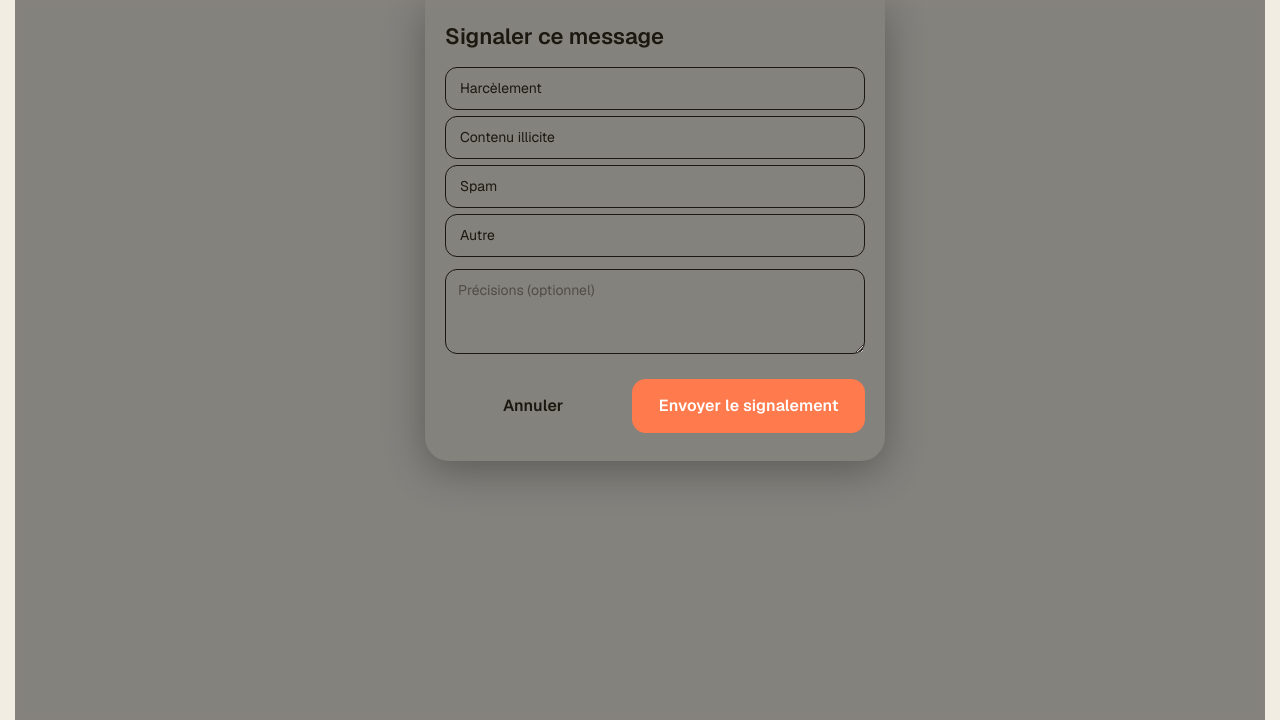
échec réseau → message d erreur, reste sur le formulaire
What coordinates should you click on to do the following:
click the button "Envoyer le signalement"
I would click on:
 (749, 406)
Its box is left=632, top=379, right=865, bottom=433.
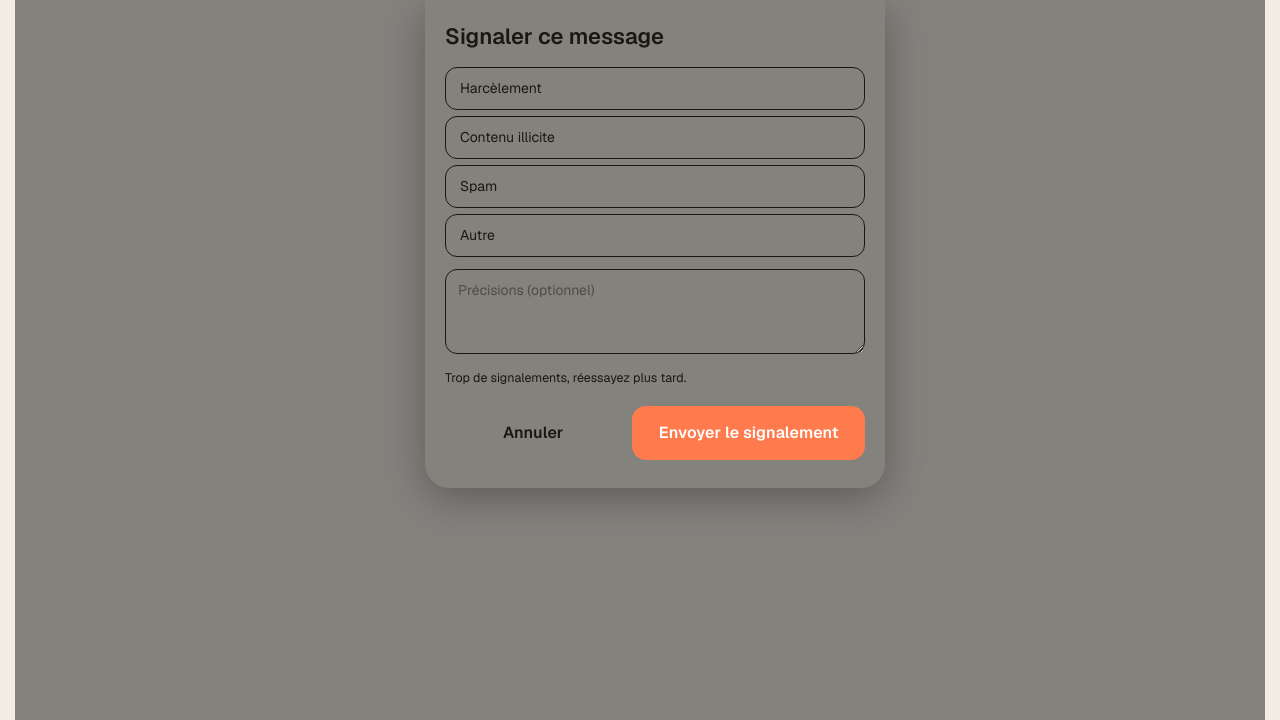
expect the button "Envoyer le signalement" is shown: met, box left=632, top=406, right=865, bottom=460
expect the text "Trop de signalements, réessayez plus tard." is shown: met, box left=445, top=369, right=686, bottom=386
